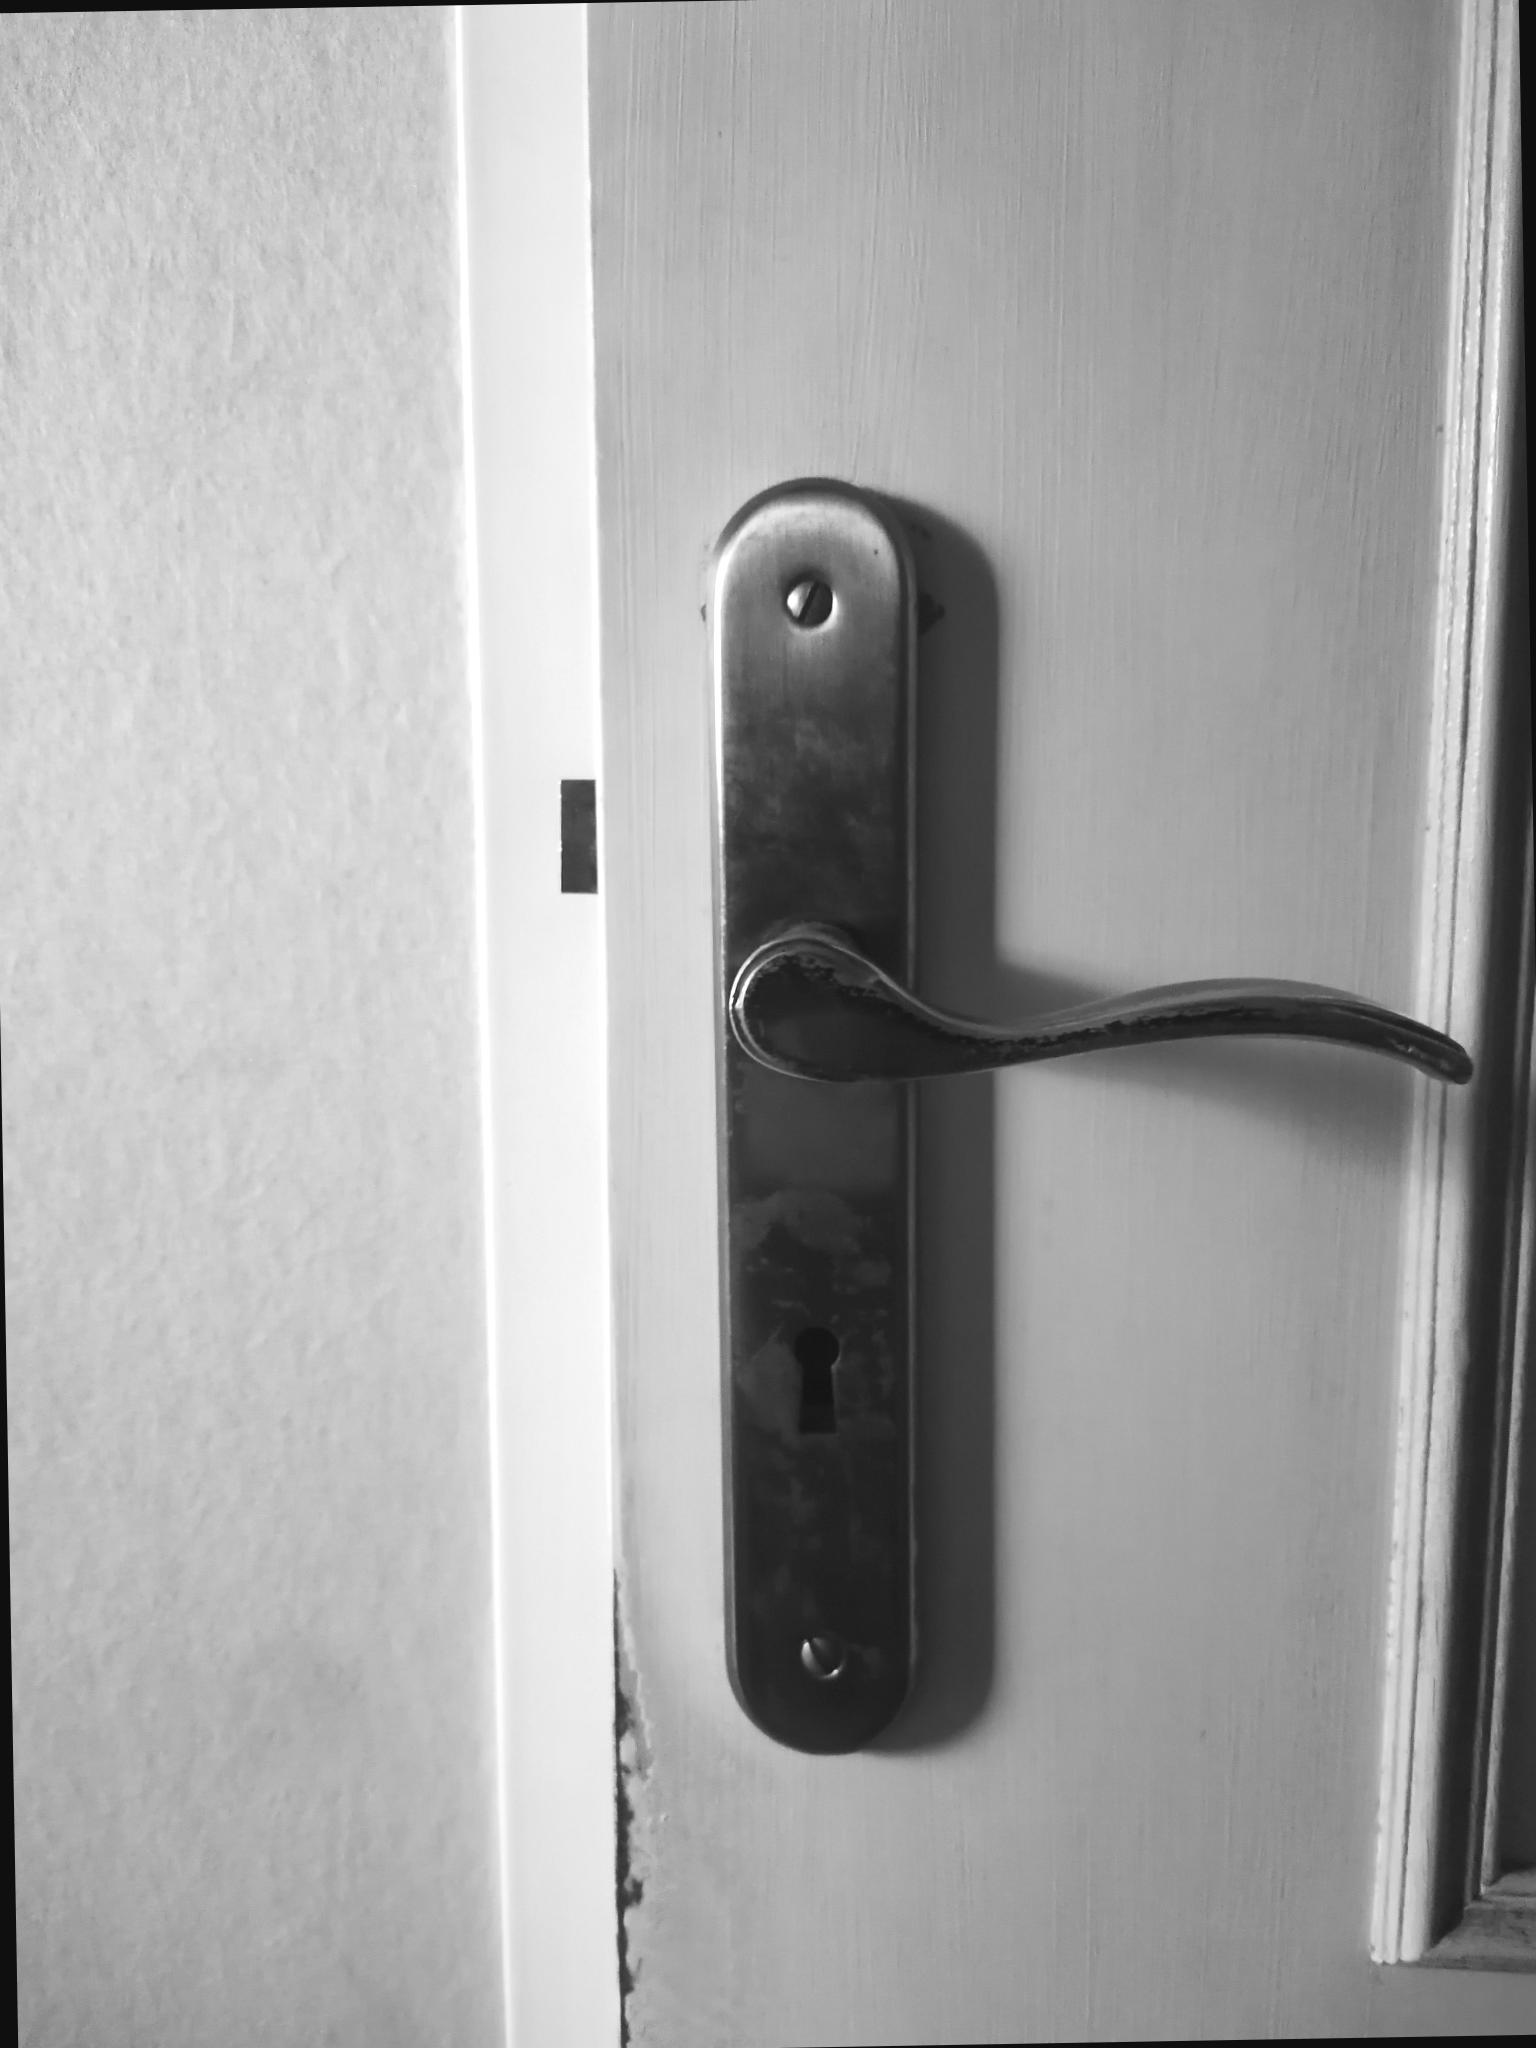screw: (781, 574, 837, 629), (797, 1634, 847, 1682)
